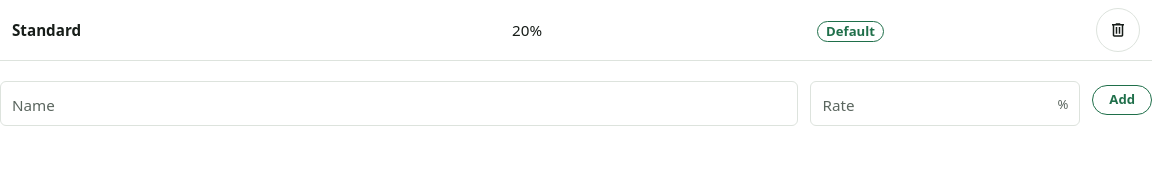
Test: VatRates › counts in the plural when several carry it
Click the button named "Remove Standard" at (1118, 30), box [1096,8,1140,52]
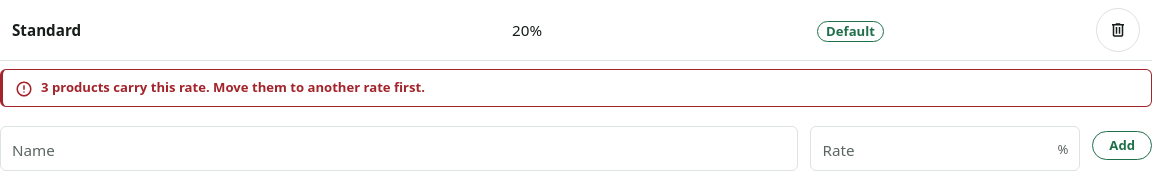
Now the message "3 products carry this rate. Move them to another rate first." is shown, box [0,69,1152,107]
